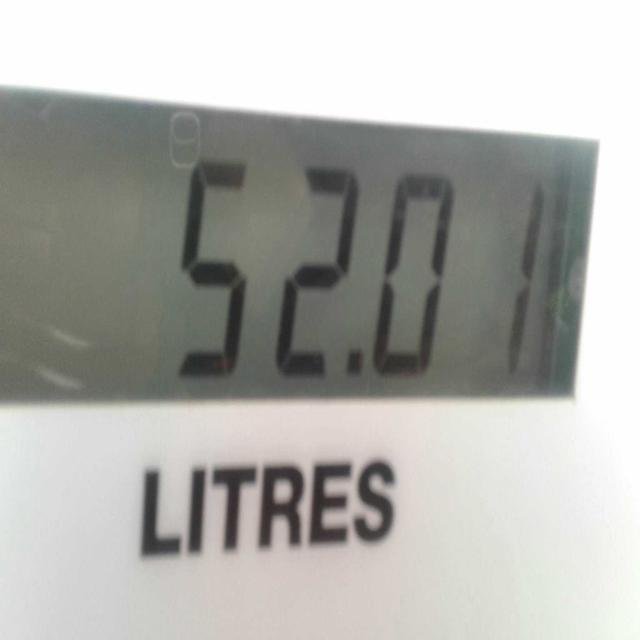.: (334, 352, 379, 406)
0: (377, 164, 474, 421)
1: (500, 186, 531, 361)
2: (271, 165, 353, 378)
5: (177, 160, 251, 381)
